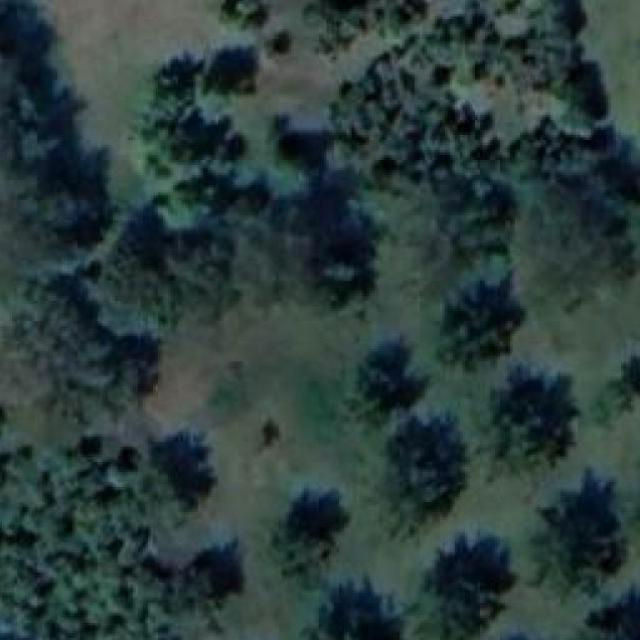Tree: (0, 438, 173, 640), (0, 0, 115, 277), (389, 106, 526, 280), (0, 278, 143, 440), (228, 176, 378, 317), (319, 37, 457, 172), (513, 179, 627, 314), (480, 119, 640, 195), (530, 485, 626, 586), (374, 419, 467, 516), (413, 544, 500, 640), (489, 367, 576, 460), (92, 253, 178, 341), (136, 104, 244, 173), (447, 281, 532, 359), (269, 484, 344, 567), (427, 4, 504, 83), (146, 432, 218, 516), (347, 336, 425, 411), (154, 167, 235, 236), (311, 582, 405, 640), (126, 49, 201, 120), (556, 584, 640, 640), (531, 73, 600, 141), (182, 542, 251, 605), (200, 41, 264, 101), (306, 0, 367, 54), (362, 0, 427, 44), (526, 0, 587, 44), (214, 0, 273, 41), (619, 354, 638, 405)
